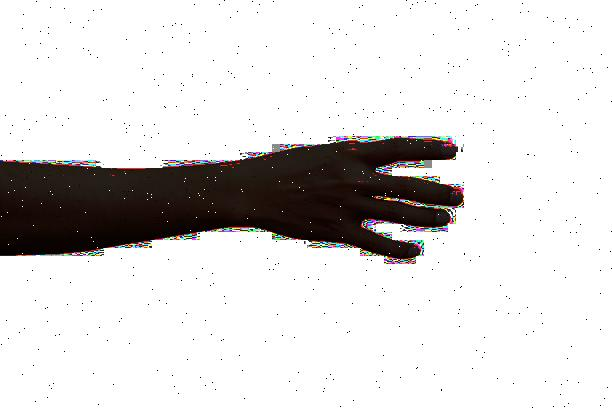Paper: (254, 131, 464, 262)
